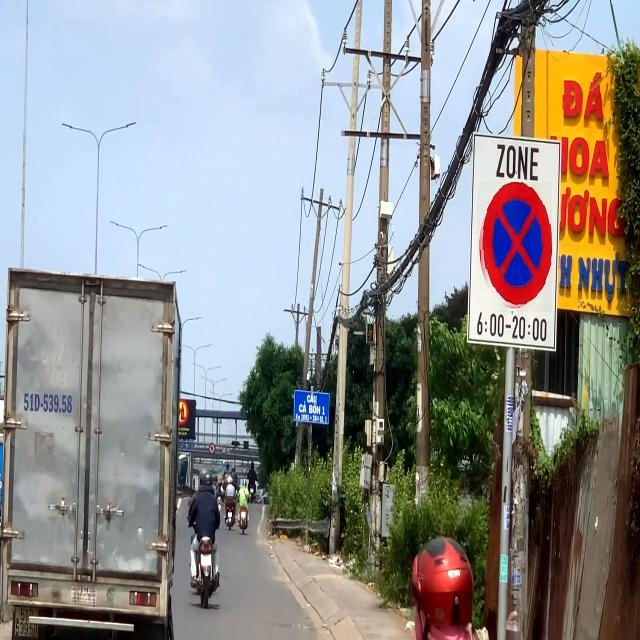bien_cam: (477, 182, 552, 312)
